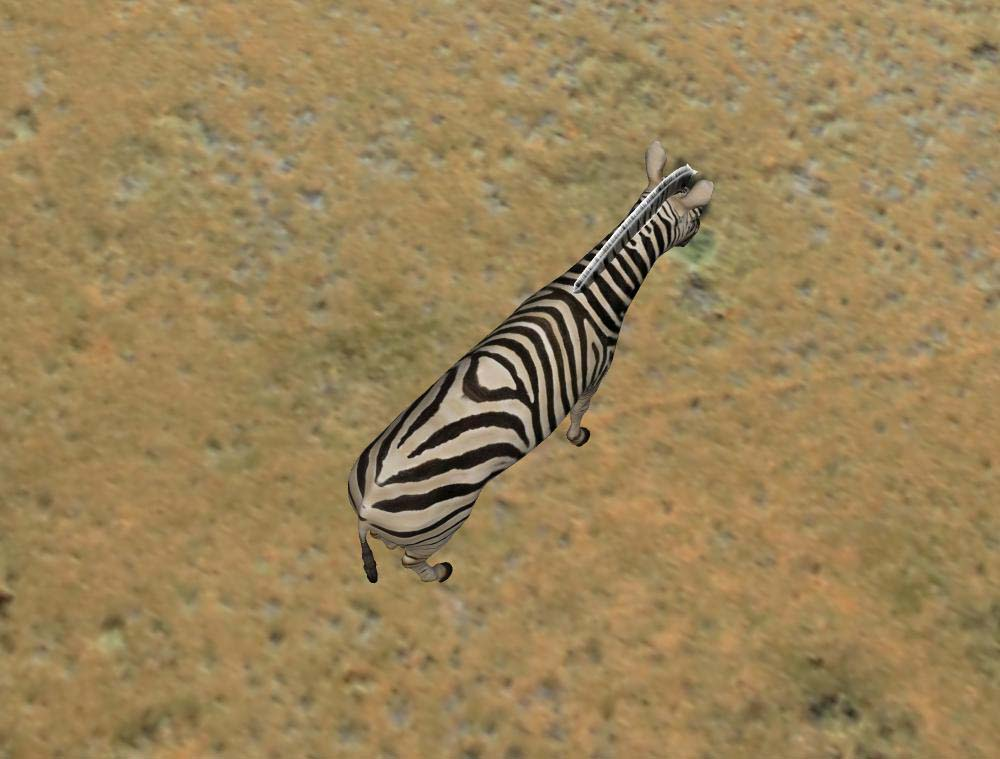zebra: (342, 139, 718, 592)
